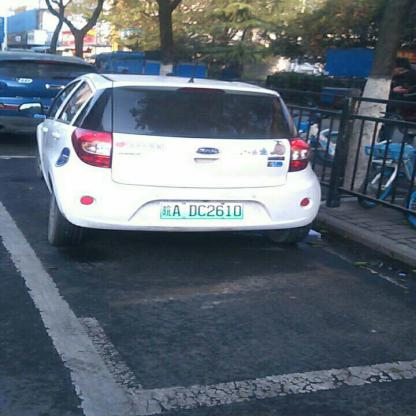lp: (161, 200, 243, 219)
